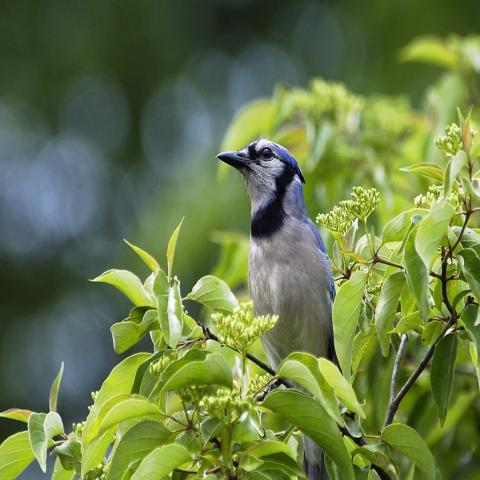bird: (216, 136, 344, 480)
